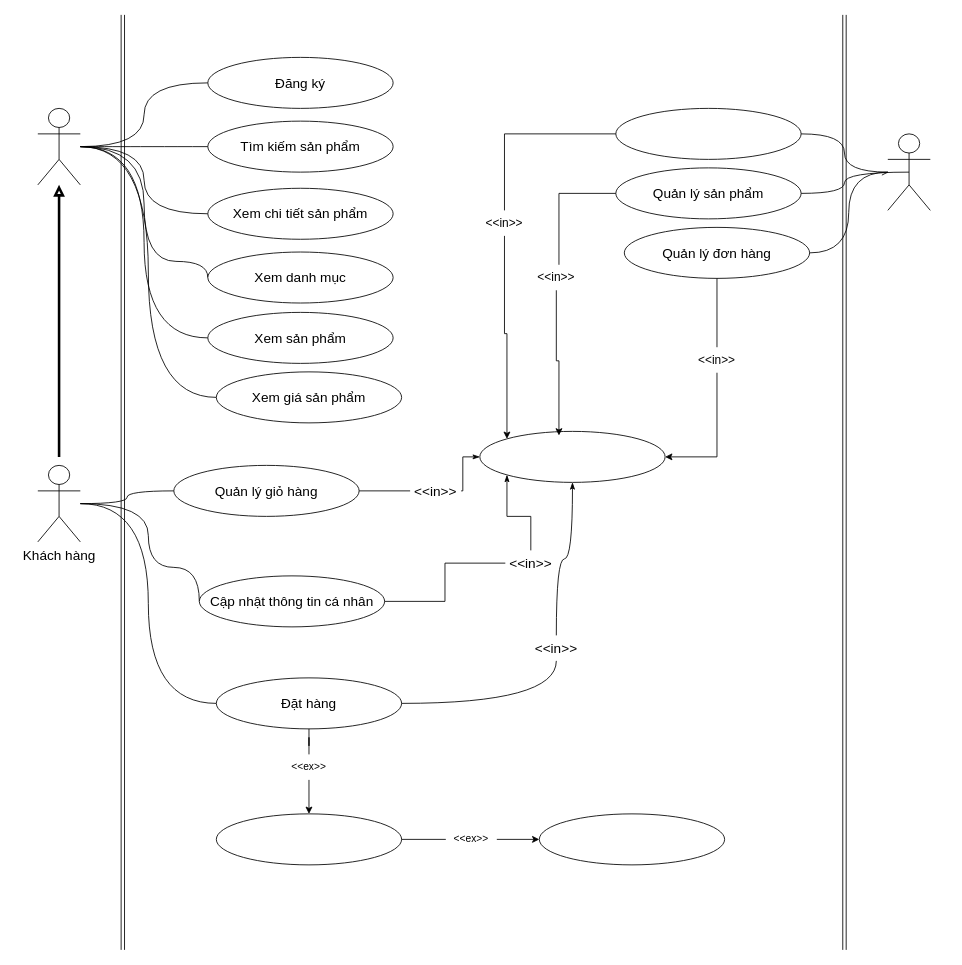
The diagram is 962 pixels wide and 965 high, and some of its shapes have lost their labels. The centre of each missing label's shape, as x and y in pixels:
Khách vãng lai: (x=58, y=146)
Quản lý khách hàng: (x=708, y=133)
Quản trị viên: (x=908, y=171)
Xem lịch sử đơn hàng: (x=308, y=839)
Đánh giá sản phẩm: (x=631, y=839)
Đăng nhập: (x=572, y=456)
